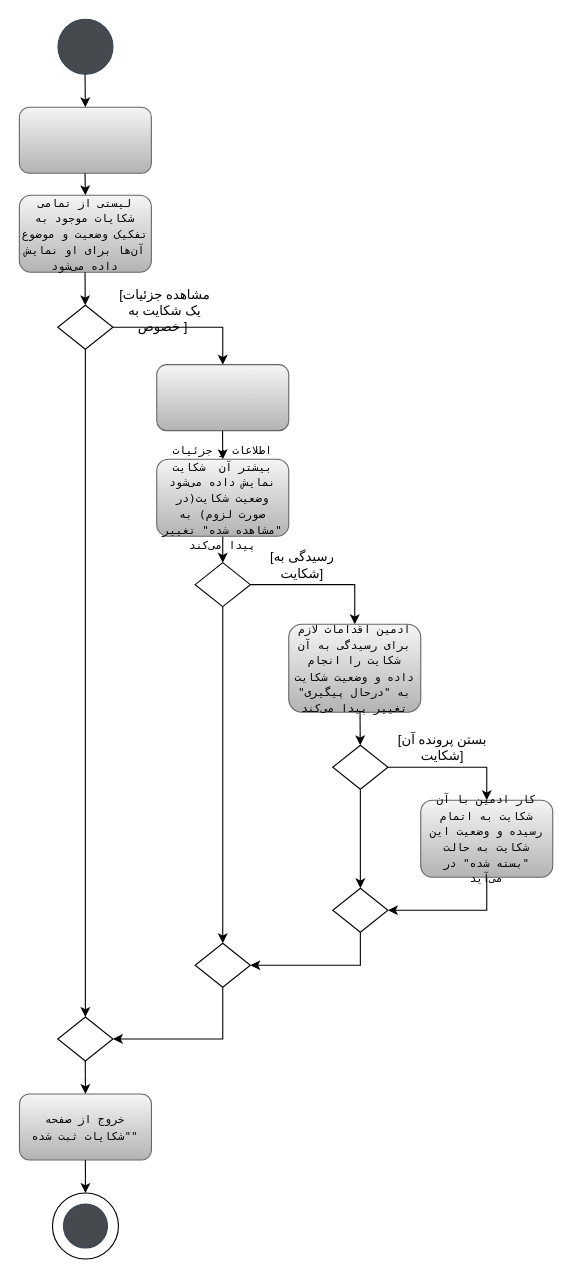
Image size: 572x1278. Some labels were removed from this diagram. The shapes that lost their labels are listed below. From the top down, each one's centre as x and y in pixels, then its label:
(84,139): ادمین وارد بخش "شکایات ثبت‌شده" می‌شود
(222,397): ادمین به دلخواه خود روی یکی از شکایت‌ها کلیک می‌کند
